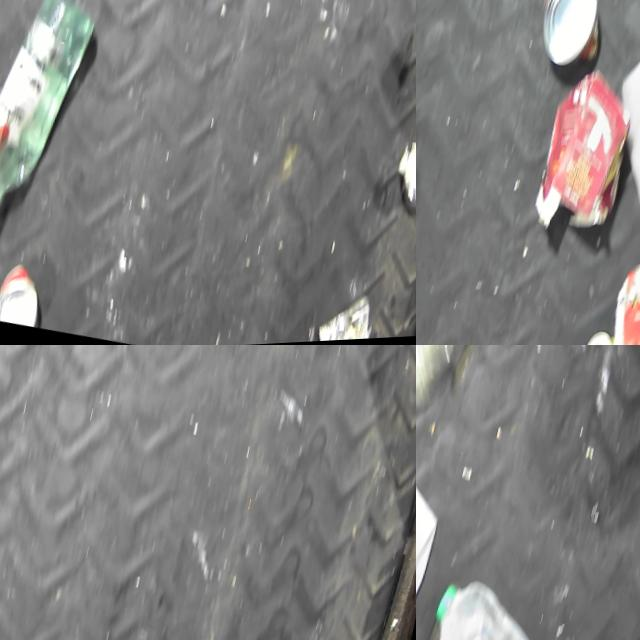can: (527, 0, 617, 79), (596, 253, 640, 345), (0, 259, 48, 331), (572, 327, 616, 345)
milk_jug: (416, 574, 570, 640)
